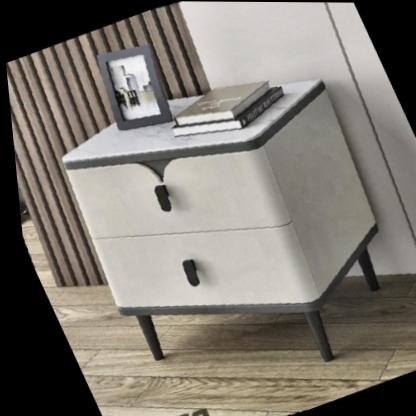Nightstand: (41, 47, 415, 393)
